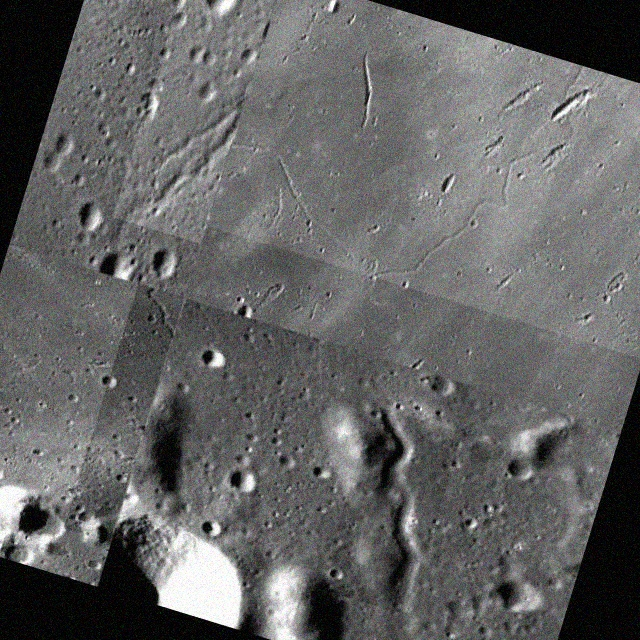crater: (207, 0, 640, 358), (112, 0, 283, 243), (64, 283, 184, 542), (318, 406, 462, 616)
